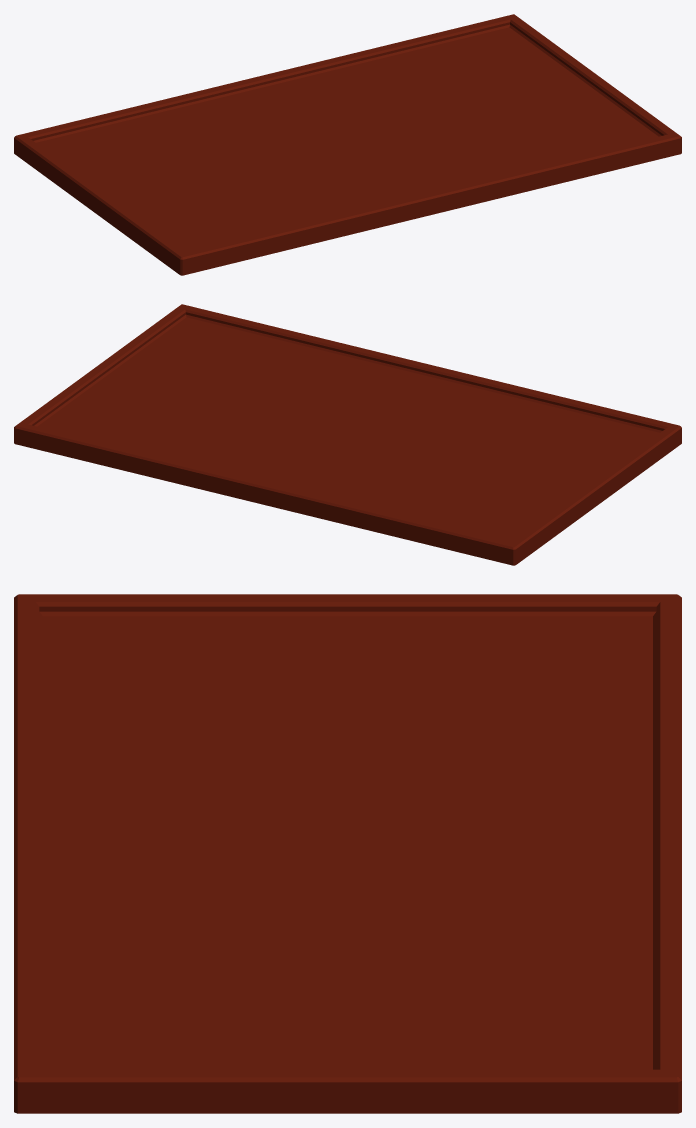
The model's file is Toit01.fbx.
The picture shows the model from 3 angles, top to bottom: view 1: azimuth 30°, elevation 25°; view 2: azimuth 150°, elevation 25°; view 3: azimuth 270°, elevation 25°; orthographic projection. The views are drawn at different scales.
Parts seen in each view (by area): view 1: Toit01; view 2: Toit01; view 3: Toit01.
Boxes of the visible parts, box(x1,y1,x2,y2) form: Toit01: box(14, 14, 681, 275); Toit01: box(14, 304, 681, 565); Toit01: box(14, 594, 681, 1113).
Size of the model in its own units: 2401 by 80.05 by 1394.
